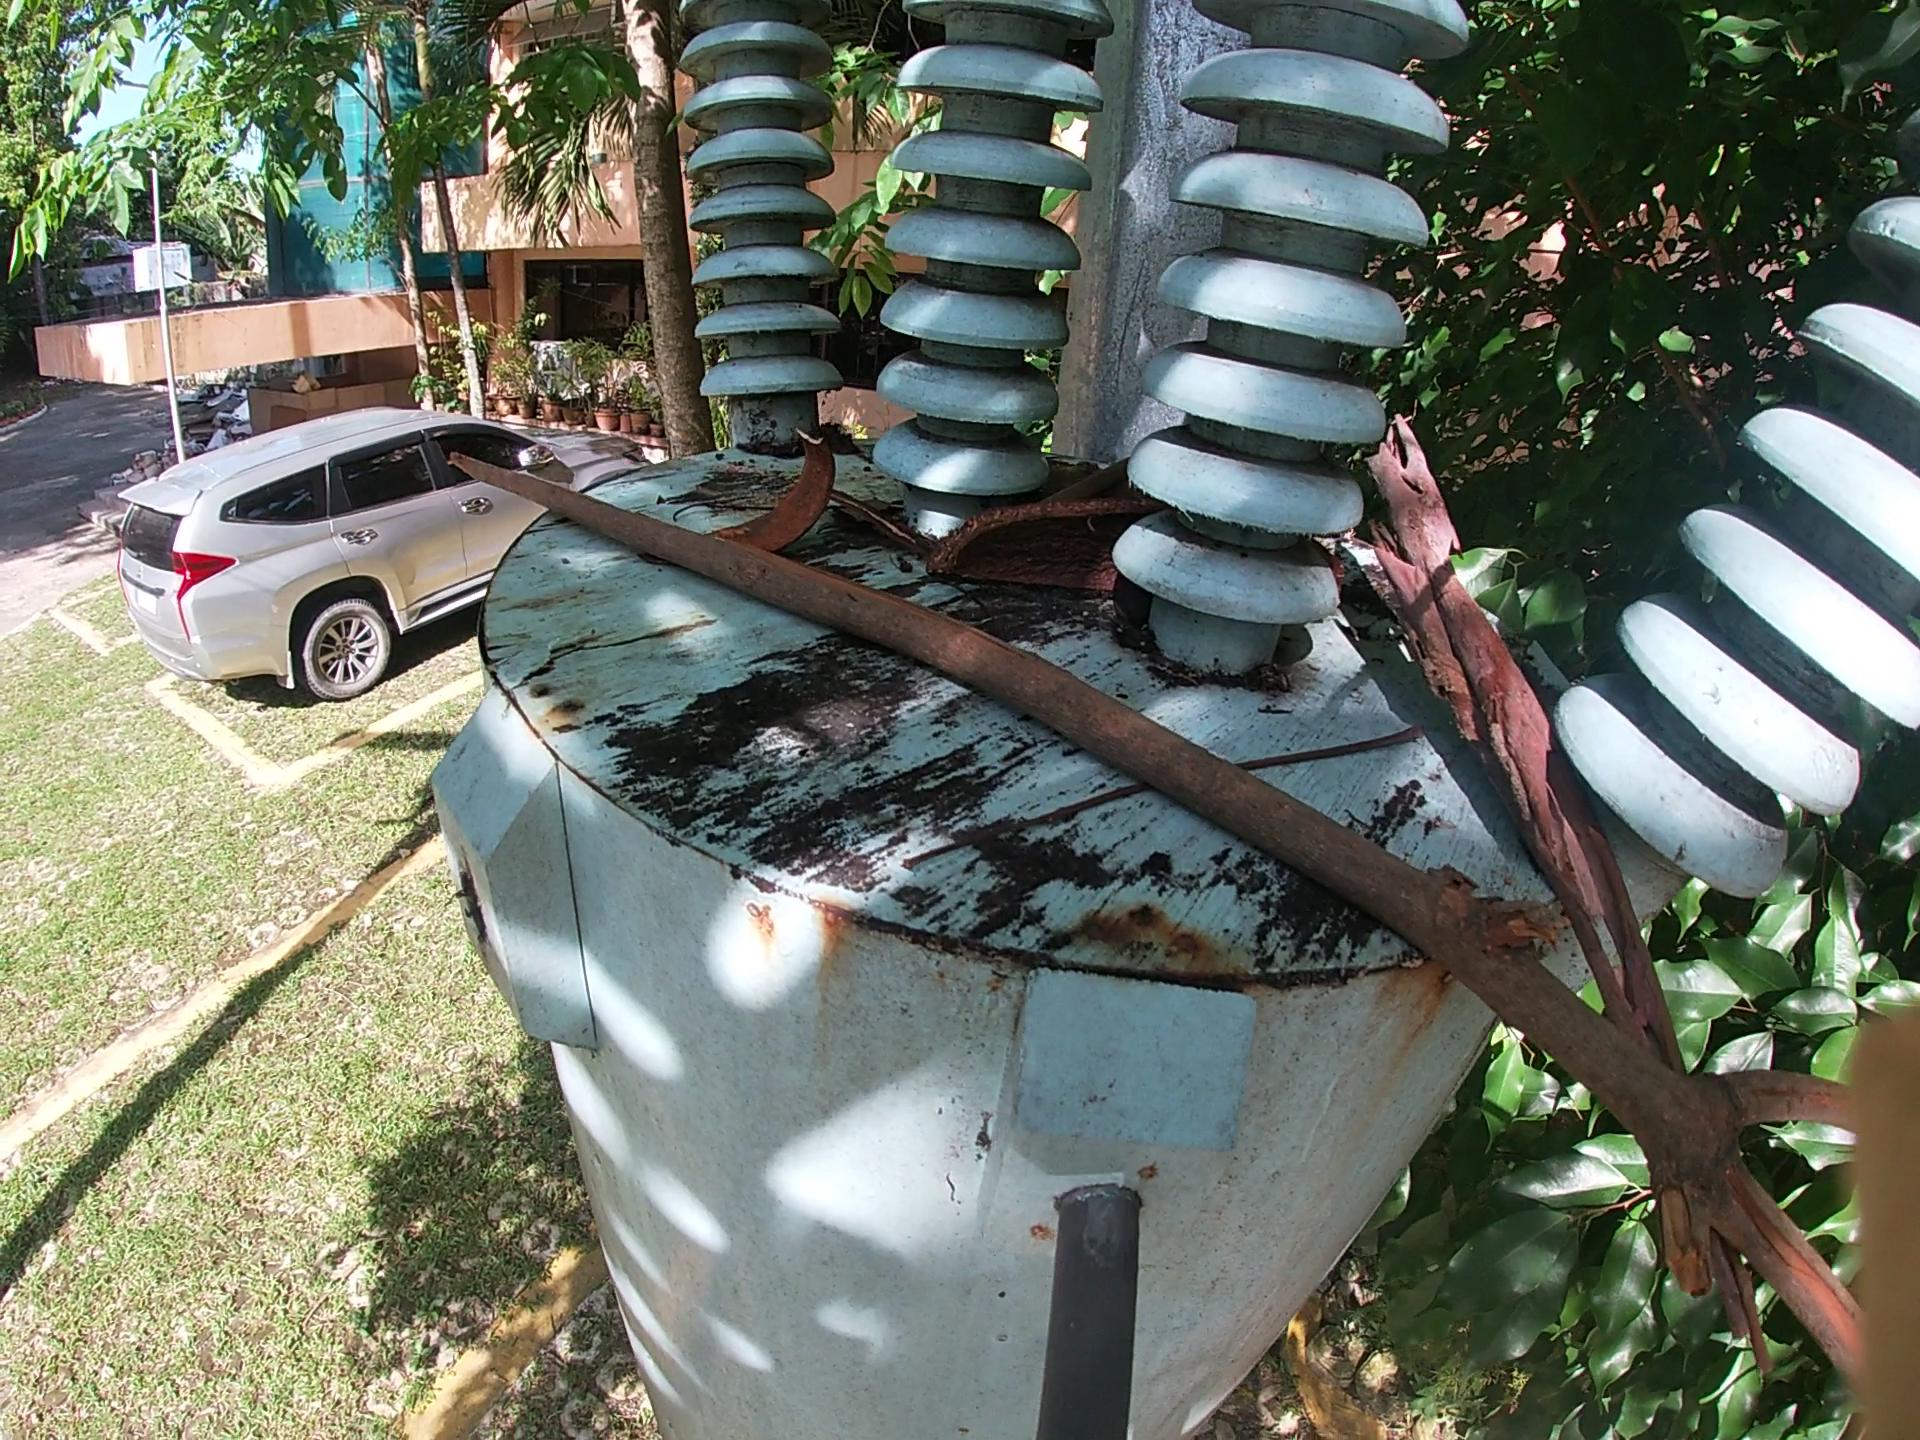mahogany fruit: (909, 501, 1179, 614), (701, 440, 856, 540)
tree branch: (440, 455, 1905, 1413), (1373, 433, 1782, 1376), (881, 718, 1435, 864), (838, 487, 922, 564), (1030, 458, 1140, 505), (671, 486, 785, 526)
